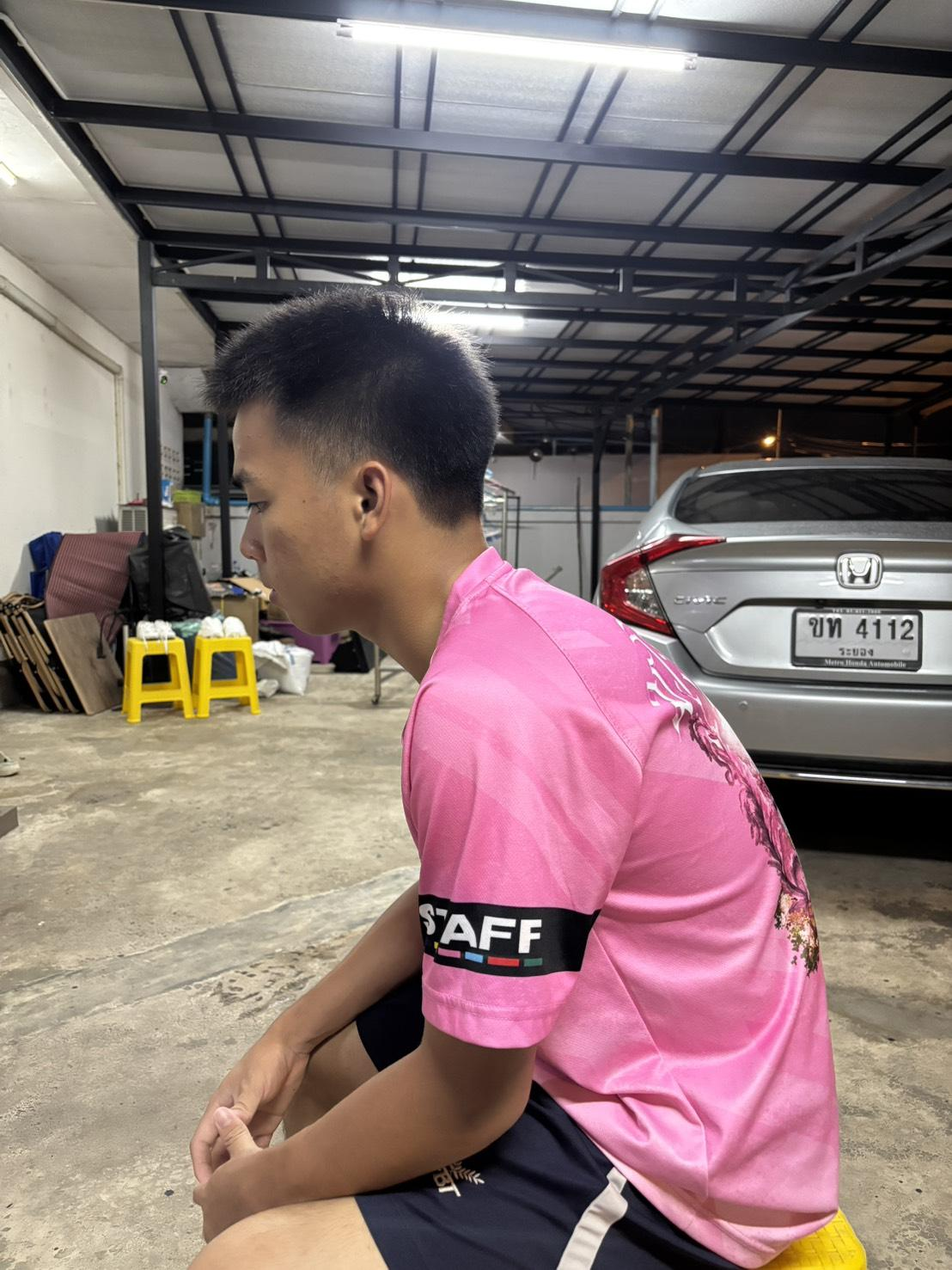BadPosture: (190, 289, 839, 1269)
